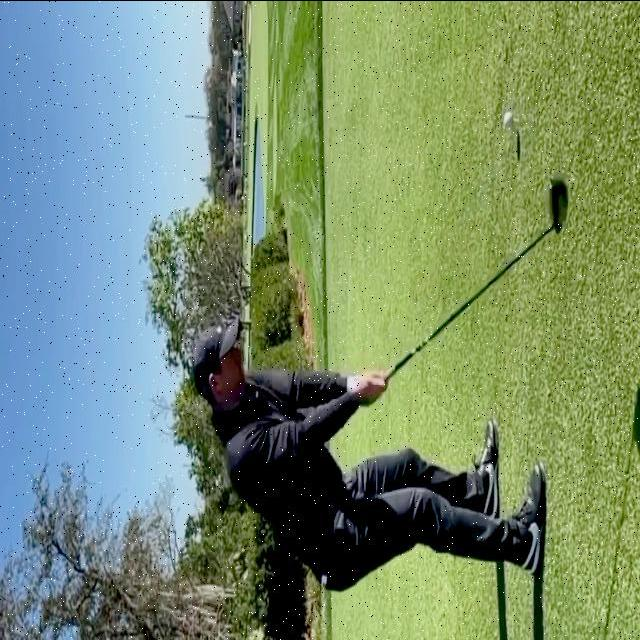golf ball: (503, 108, 514, 131)
golf club-handle: (378, 173, 572, 390)
golf club-head: (546, 177, 568, 237)
